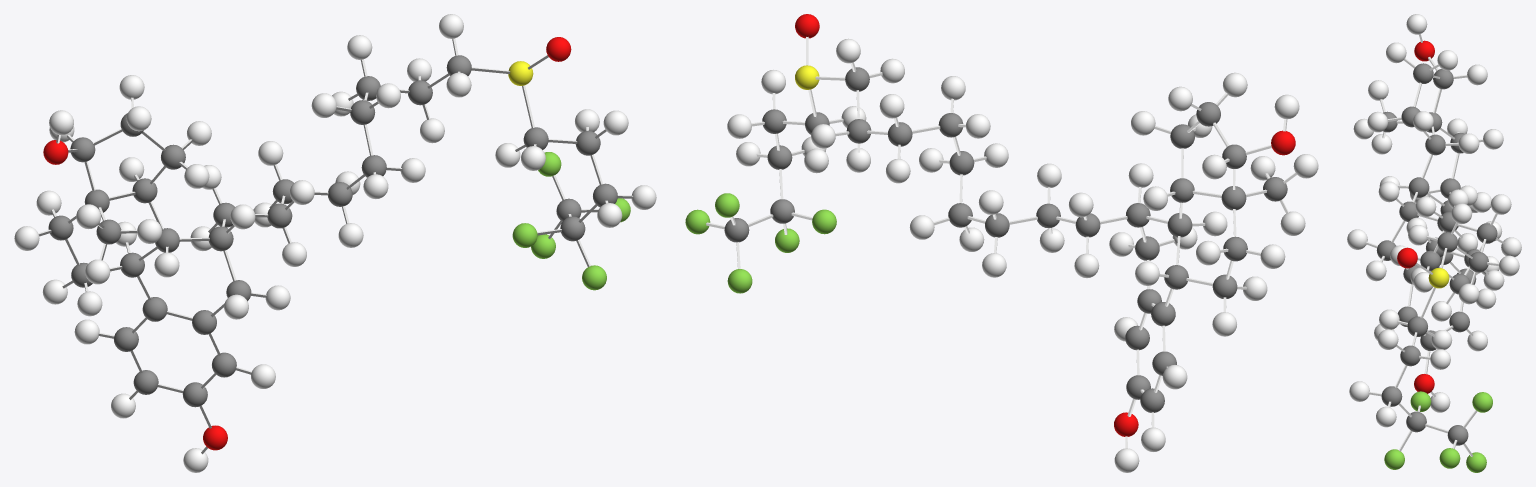
File: Fulvestrant.glb
3 views of the same model, side by side, from view 1: azimuth 30°, elevation 25°; view 2: azimuth 150°, elevation 25°; view 3: azimuth 270°, elevation 25° (orthographic). The views are drawn at different scales.
Visible parts, largest first — view 1: no part large enough to name; view 2: no part large enough to name; view 3: obj87, obj25, obj69, obj72, obj88, obj33, obj34, obj78, obj79, obj46, obj54, obj56 (+57 smaller).
Boxes of the visible parts, left/top/right/bottom form: obj87: left=1467, top=64, right=1487, bottom=85; obj25: left=1397, top=247, right=1417, bottom=268; obj69: left=1490, top=194, right=1511, bottom=214; obj72: left=1499, top=255, right=1519, bottom=276; obj88: left=1406, top=14, right=1427, bottom=34; obj33: left=1472, top=392, right=1492, bottom=412; obj34: left=1439, top=448, right=1460, bottom=468; obj78: left=1377, top=329, right=1398, bottom=349; obj79: left=1376, top=406, right=1396, bottom=427; obj46: left=1483, top=129, right=1503, bottom=149; obj54: left=1366, top=260, right=1386, bottom=281; obj56: left=1378, top=181, right=1399, bottom=202.
Bounding box in the file's own units: 154 × 98.23 × 46.17.
